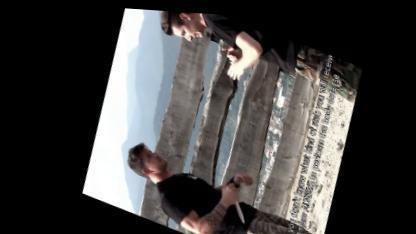knife: (206, 175, 250, 223)
